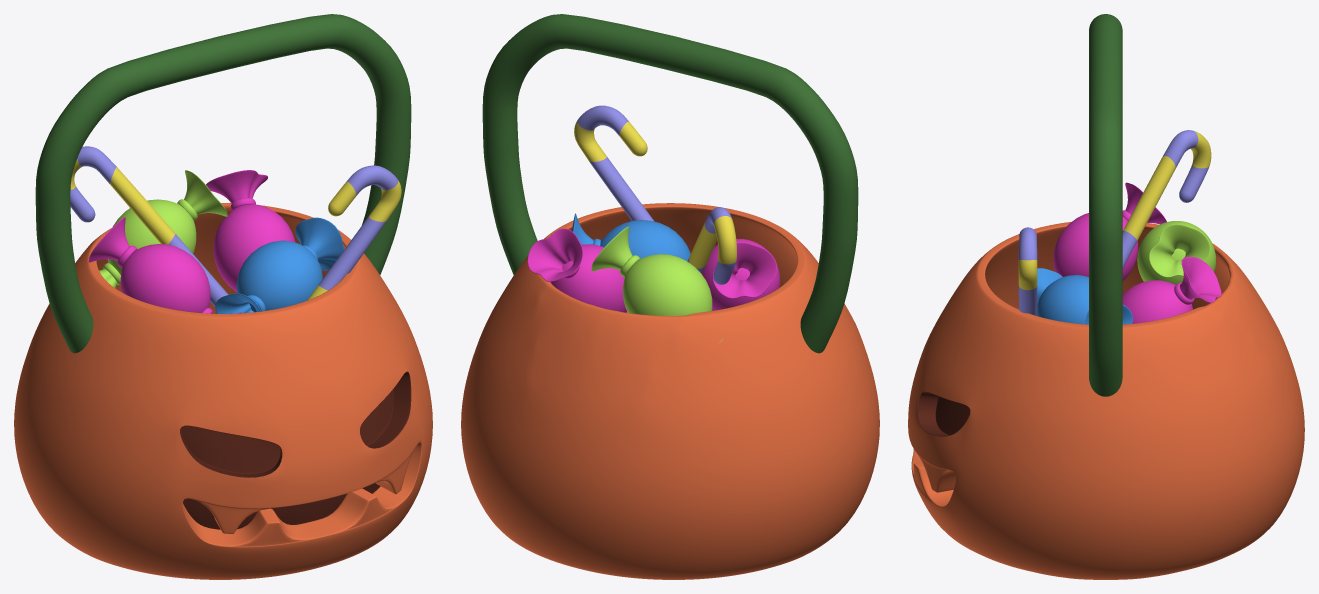
3 views of the same model, side by side, from view 1: azimuth 30°, elevation 25°; view 2: azimuth 150°, elevation 25°; view 3: azimuth 270°, elevation 25° (orthographic). The views are drawn at different scales.
Visible parts, largest first — view 1: Cylinder.001, Cylinder.002; view 2: Cylinder.001, Cylinder.002; view 3: Cylinder.001, Cylinder.002.
Boxes of the visible parts, x1,y1,x2,y2 form: Cylinder.001: (14, 14, 432, 579); Cylinder.002: (70, 146, 401, 313); Cylinder.001: (461, 14, 879, 579); Cylinder.002: (527, 105, 780, 342); Cylinder.001: (908, 14, 1304, 579); Cylinder.002: (1018, 130, 1221, 324).
Size of the model in its own units: 0.5663 by 0.6918 by 0.5522.
2 materials, 2 textured.
